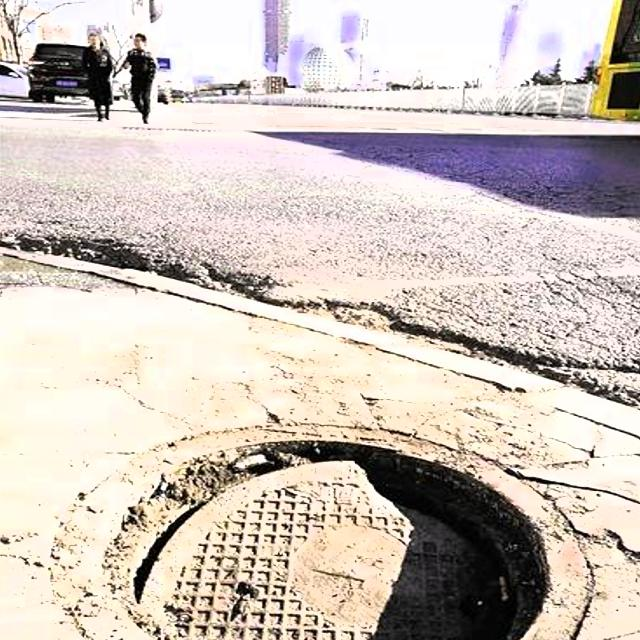broke: (37, 403, 640, 640)
